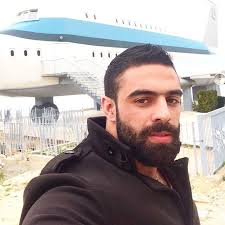middle_eastern_male: (114, 55, 190, 166)
